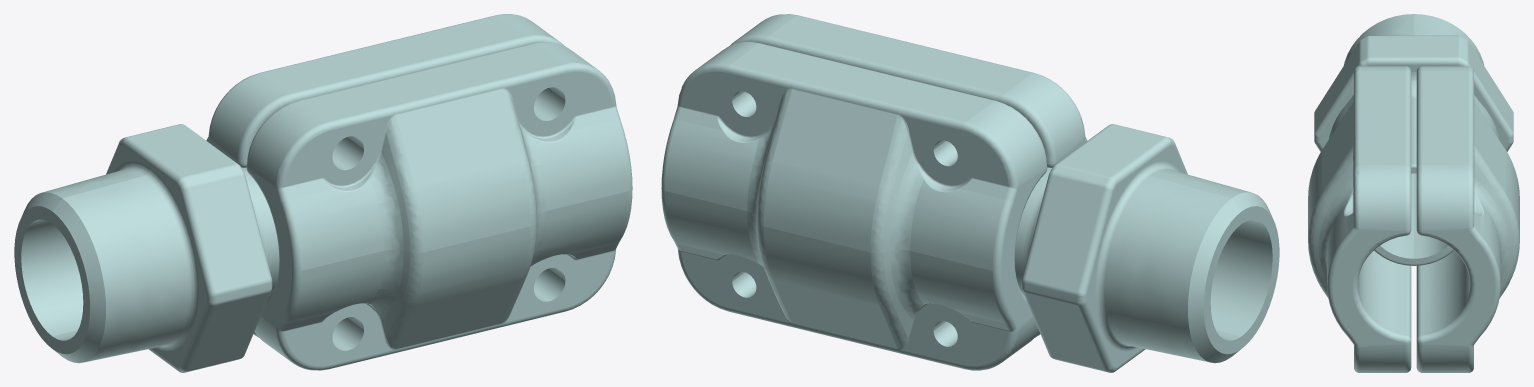
3 views of the same model, side by side, from view 1: azimuth 30°, elevation 25°; view 2: azimuth 150°, elevation 25°; view 3: azimuth 270°, elevation 25° (orthographic). The views are drawn at different scales.
Size of the model in its own units: 92.09 by 41 by 38.8.
